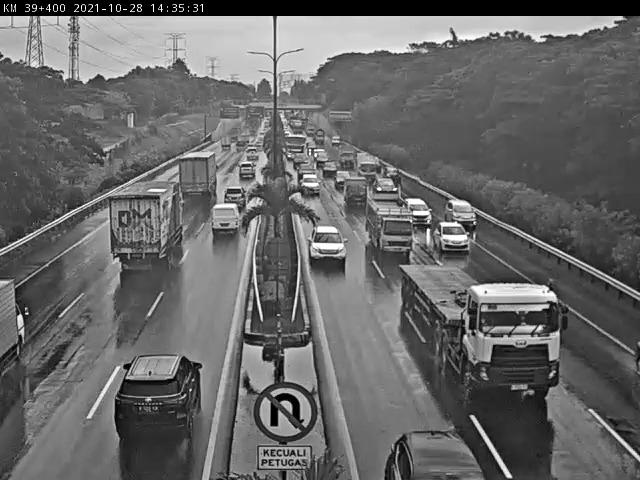big truck: (400, 263, 563, 404), (112, 182, 185, 272), (176, 154, 216, 199), (284, 130, 306, 157)
car: (117, 355, 203, 440), (383, 428, 486, 480), (311, 226, 346, 261), (433, 224, 468, 254), (209, 210, 238, 242), (445, 201, 476, 228), (408, 199, 432, 226), (345, 178, 369, 202), (219, 190, 245, 210), (300, 173, 320, 192), (381, 163, 400, 182), (373, 177, 395, 193), (234, 165, 253, 183), (334, 168, 349, 188), (292, 153, 308, 166), (297, 164, 313, 177), (315, 151, 328, 165), (323, 161, 336, 175), (245, 150, 257, 163)
small truck: (366, 196, 414, 256), (0, 276, 26, 378), (356, 153, 377, 177), (339, 149, 354, 164), (219, 136, 232, 150)
